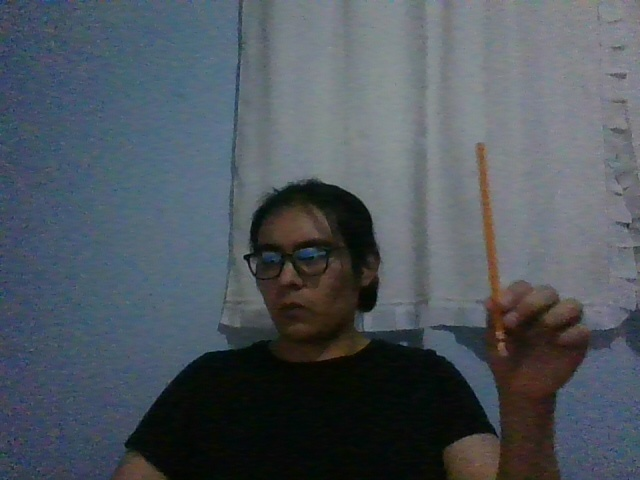lapiz: (475, 142, 508, 358)
